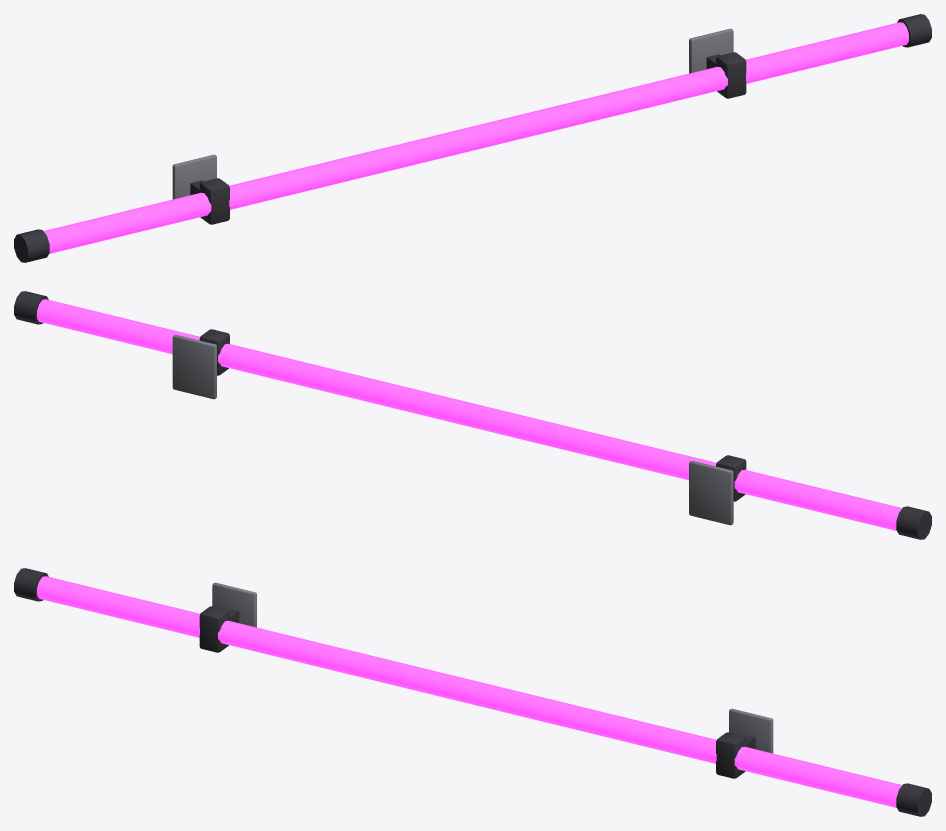
Rendered from KIT_Neon_Reto_Rosa.glb.
3 renders of one model, top to bottom at view 1: azimuth 30°, elevation 25°; view 2: azimuth 150°, elevation 25°; view 3: azimuth 330°, elevation 25°, orthographic.
Visible parts, largest first — view 1: KIT_Neon_Reto_Rosa; view 2: KIT_Neon_Reto_Rosa; view 3: KIT_Neon_Reto_Rosa.
Part boxes in pixels (x1=…): KIT_Neon_Reto_Rosa: x1=14, y1=14, x2=931, y2=262; KIT_Neon_Reto_Rosa: x1=14, y1=291, x2=931, y2=539; KIT_Neon_Reto_Rosa: x1=14, y1=568, x2=931, y2=816.
Bounding box in the file's own units: 1.05 × 0.06 × 0.0573.
